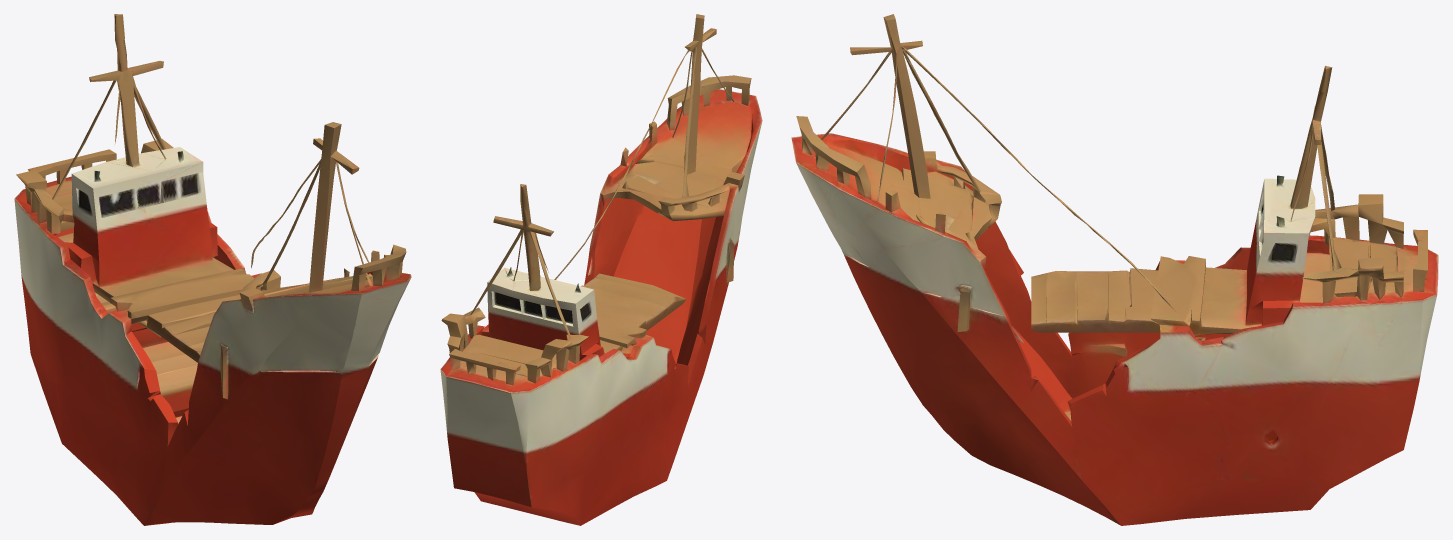
Rendered from shipwreck.glb.
The picture shows the model from 3 angles, left to right: view 1: azimuth 30°, elevation 25°; view 2: azimuth 150°, elevation 25°; view 3: azimuth 270°, elevation 25°; orthographic projection. The views are drawn at different scales.
Parts seen in each view (by area): view 1: model; view 2: model; view 3: model.
Part boxes in pixels (left/top/right/bottom): model: left=14, top=14, right=411, bottom=525; model: left=440, top=14, right=762, bottom=525; model: left=791, top=14, right=1438, bottom=525.
Size of the model in its own units: 0.5429 by 1.54 by 1.9.
Materials: 1 (1 with a texture image).
